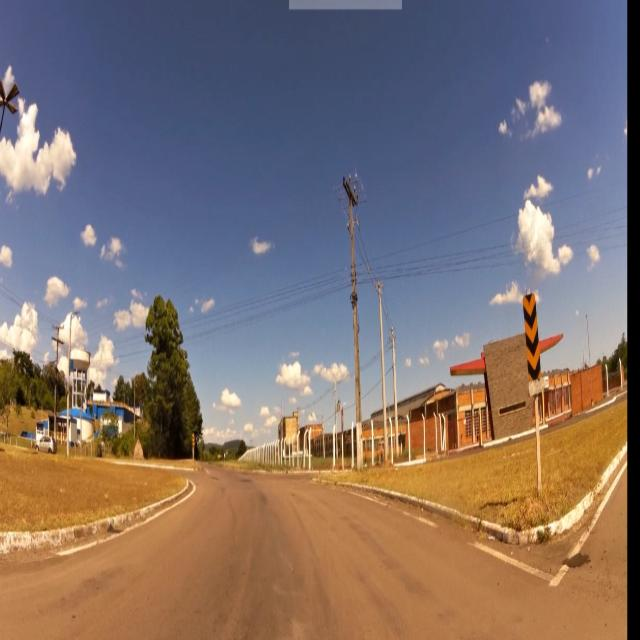MP: (523, 295, 543, 378)
